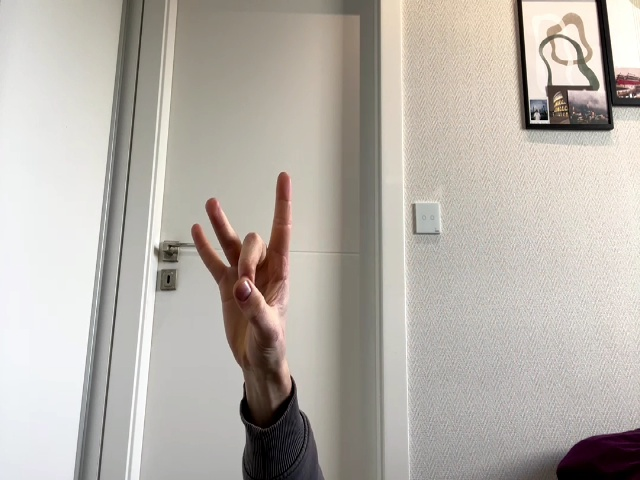G: (191, 172, 297, 364)
